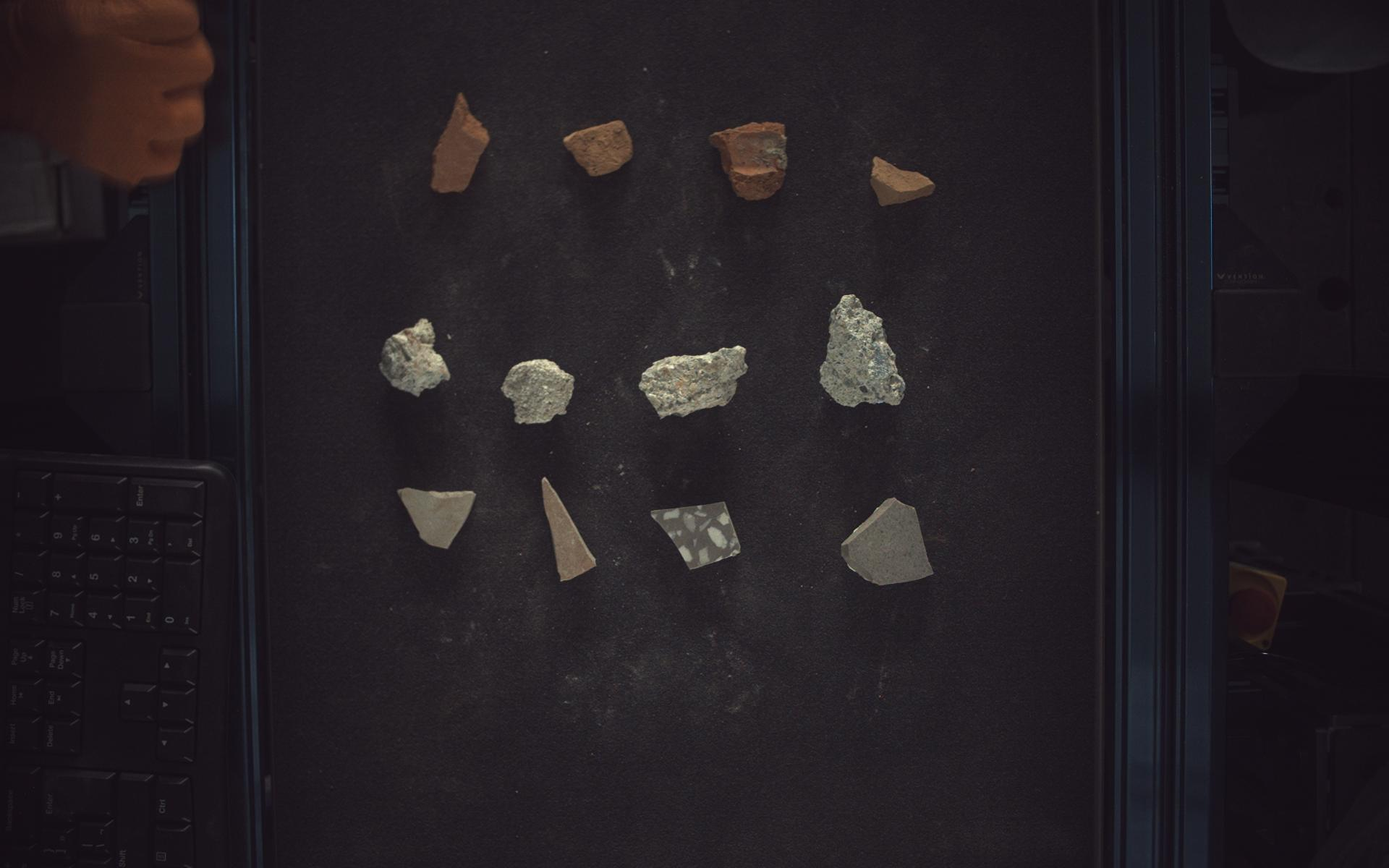brick: (711, 121, 789, 200), (431, 92, 490, 192), (564, 119, 633, 176), (872, 156, 937, 205)
concrete: (822, 294, 907, 407), (640, 345, 749, 418), (379, 318, 451, 396), (501, 359, 574, 424)
tile: (843, 498, 935, 586), (651, 503, 742, 571), (542, 477, 597, 582), (397, 488, 475, 549)
